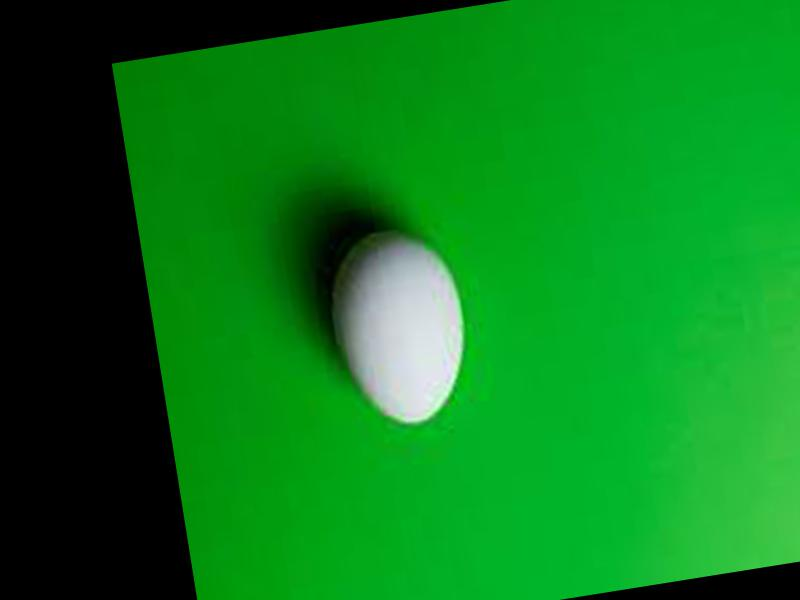Eggs: (320, 221, 475, 434)
